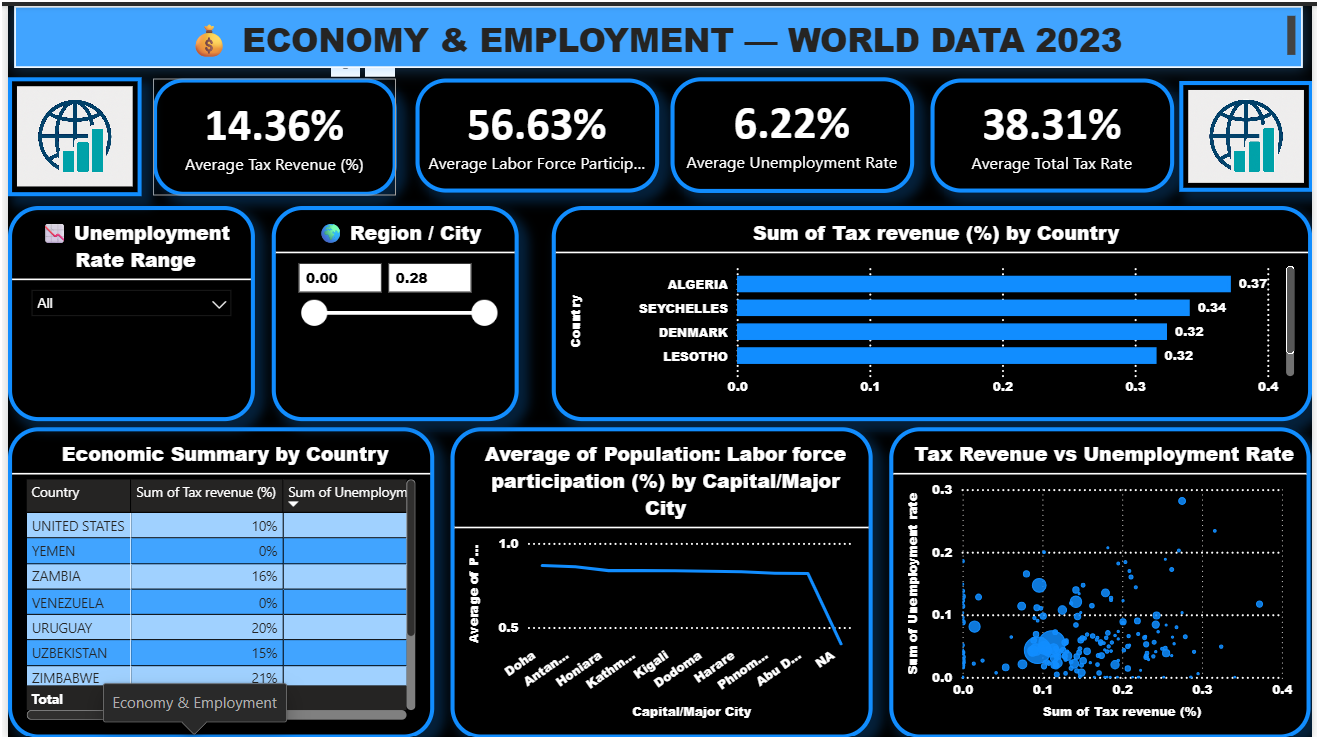

What the dashboard file says about the page in this screenshot:
{"tool":"powerbi","page":{"name":"Economy & Employment","canvas":[1280,720],"ordinal":1},"visuals":[{"type":"card","fields":{"Values":["Measure.Average Tax Revenue (%)"]},"box":[141.8,71.6,238.8,114.9],"z":0},{"type":"card","fields":{"Values":["Measure.Average Total Tax Rate"]},"box":[906,71.6,238.8,111.9],"z":1000},{"type":"card","fields":{"Values":["Measure.Average Labor Force Participation (%)"]},"box":[400,71.6,238.8,111.9],"z":2000},{"type":"card","fields":{"Values":["Measure.Average Unemployment Rate"]},"box":[650.7,70.1,238.8,113.4],"z":3000},{"type":"barChart","fields":{"Category":["Dim_Country.Country"],"Y":["Sum(Fact_Table.Tax revenue (%))"]},"box":[533.2,196.5,746.4,211.2],"z":4000},{"type":"scatterChart","title":"Tax Revenue vs Unemployment Rate","fields":{"Category":["Dim_Country.Country"],"Size":["Sum(Fact_Table.Population)"],"X":["Sum(Fact_Table.Tax revenue (%))"],"Y":["Sum(Fact_Table.Unemployment rate)"]},"box":[865.6,414,414,305.3],"z":5000},{"type":"lineChart","fields":{"Category":["Dim_Country.Capital/Major City"],"Y":["Avg(Fact_Table.Population: Labor force participation (%))"]},"box":[434.3,414.1,414.1,305.9],"z":6000},{"type":"pivotTable","title":"Economic Summary by Country","fields":{"Rows":["Dim_Country.Country"],"Values":["Sum(Fact_Table.Tax revenue (%))","Sum(Fact_Table.Unemployment rate)","Sum(Fact_Table.Population: Labor force participation (%))"]},"box":[0,414,418.2,305.3],"z":7000},{"type":"slicer","title":"🌍 Region / City","fields":{"Values":["Fact_Table.Unemployment rate"]},"box":[259.3,196.5,242.5,211.2],"z":8000},{"type":"slicer","title":"📉 Unemployment Rate Range","fields":{"Values":["Dim_Country.Capital/Major City"]},"box":[0,196.5,242.5,211.2],"z":9000},{"type":"textbox","box":[6.3,0,1265,60.6],"z":10000},{"type":"image","box":[0,70.1,131.3,116.4],"z":10001},{"type":"image","box":[1149.3,73.1,131.3,109],"z":10002}]}

Visuals, with their boxes in screenshot pixels (x1, y1, x2, y2), scaled from the page's 1280x720 canvas onto the 1319x739 screenshot:
card - Measure.Average Tax Revenue (%): 146 73 392 191
card - Measure.Average Total Tax Rate: 934 73 1180 188
card - Measure.Average Labor Force Participation (%): 412 73 658 188
card - Measure.Average Unemployment Rate: 671 72 917 188
barChart - Dim_Country.Country x Sum(Fact_Table.Tax revenue (%)): 549 202 1318 418
"Tax Revenue vs Unemployment Rate" scatterChart: 892 425 1318 738
lineChart - Dim_Country.Capital/Major City x Avg(Fact_Table.Population: Labor force participation (%)): 448 425 874 738
"Economic Summary by Country" pivotTable: 0 425 431 738
"🌍 Region / City" slicer: 267 202 517 418
"📉 Unemployment Rate Range" slicer: 0 202 250 418
textbox: 6 0 1310 62
image: 0 72 135 191
image: 1184 75 1318 187
